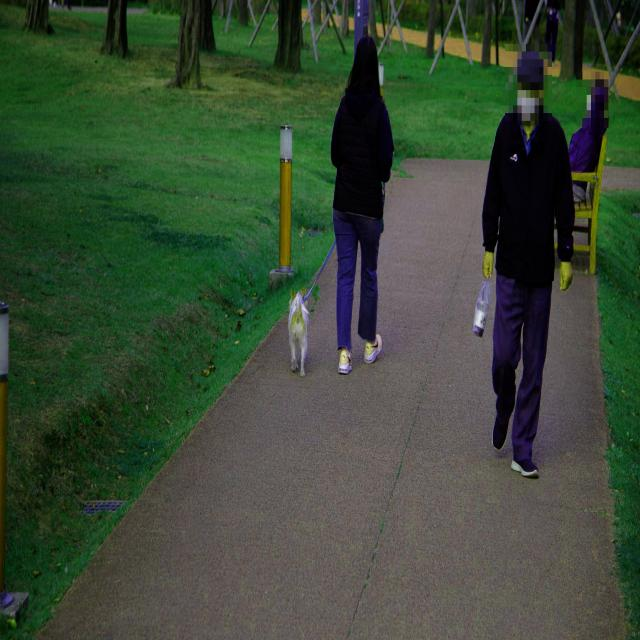Leashed_Dog: (288, 188, 358, 378)
